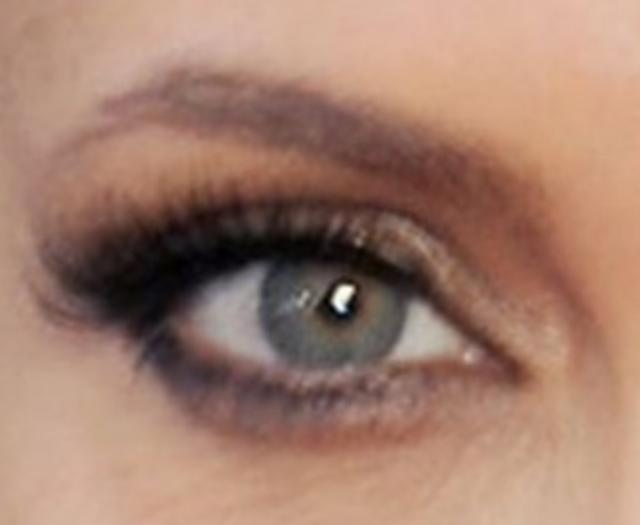eye: (258, 241, 408, 376)
